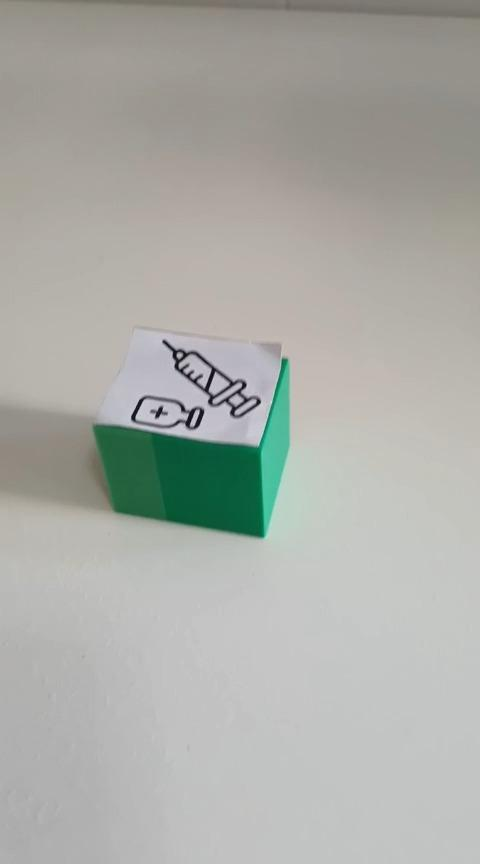antiseptic cream: (91, 324, 291, 538)
